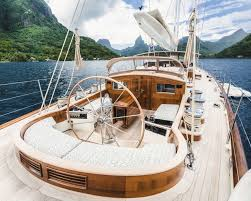boat: (1, 1, 250, 201)
